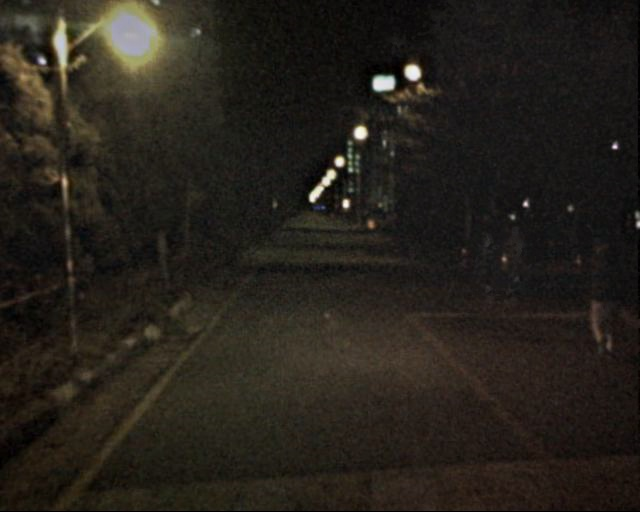person: (565, 228, 627, 363), (491, 219, 530, 308), (473, 228, 509, 303)
